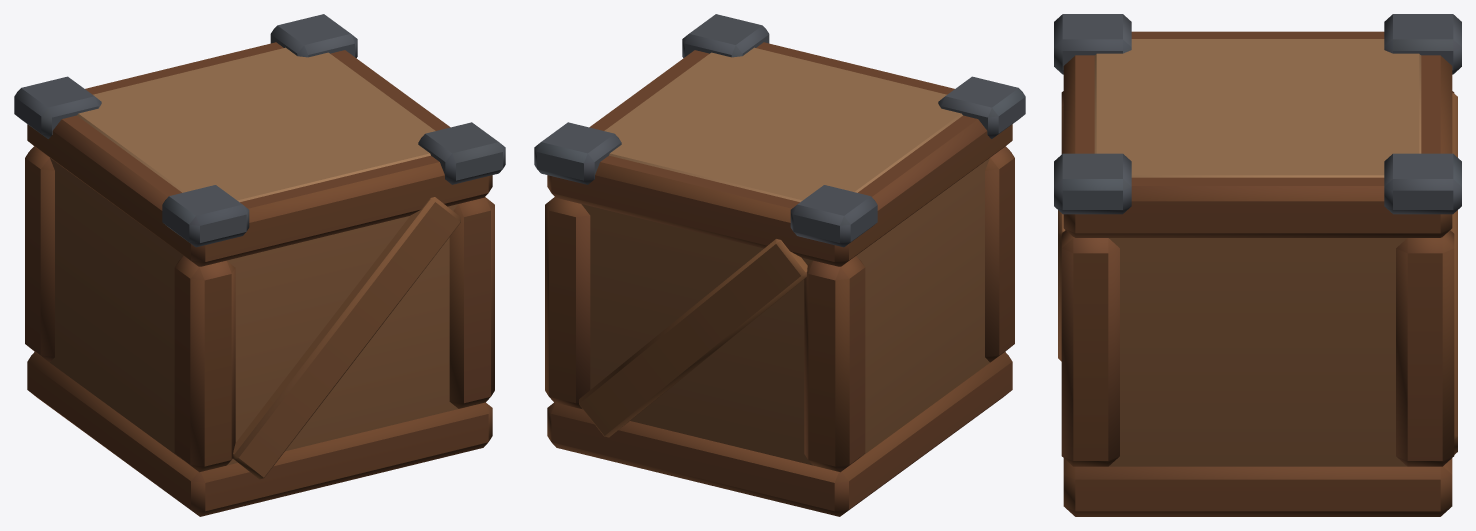
File: muster_crate.glb
3 views of the same model, side by side, from view 1: azimuth 30°, elevation 25°; view 2: azimuth 150°, elevation 25°; view 3: azimuth 270°, elevation 25° (orthographic). The views are drawn at different scales.
Visible parts, largest first — view 1: MusterCrateBody; view 2: MusterCrateBody; view 3: MusterCrateBody.
Part boxes in pixels (left/top/right/bottom): MusterCrateBody: left=14, top=14, right=505, bottom=516; MusterCrateBody: left=534, top=14, right=1025, bottom=516; MusterCrateBody: left=1054, top=14, right=1461, bottom=516.
Size of the model in its own units: 1.05 by 0.98 by 1.05.
